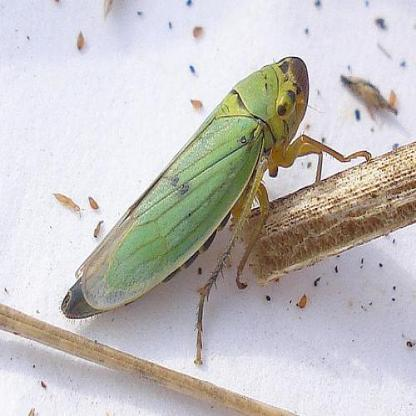Green-Leafhopper: (61, 53, 375, 370)
